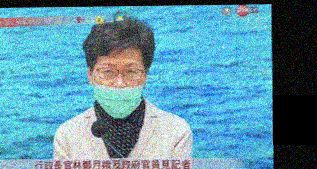mask_weared_incorrect: (92, 60, 146, 120)
